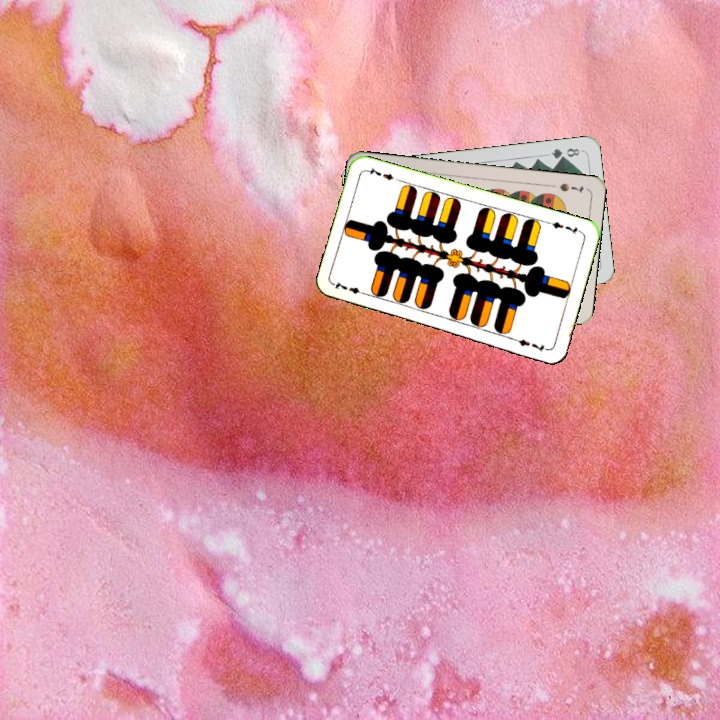E7: (544, 217, 584, 237), (330, 278, 370, 298)
G8: (547, 144, 582, 162)
S7: (555, 179, 586, 194)
